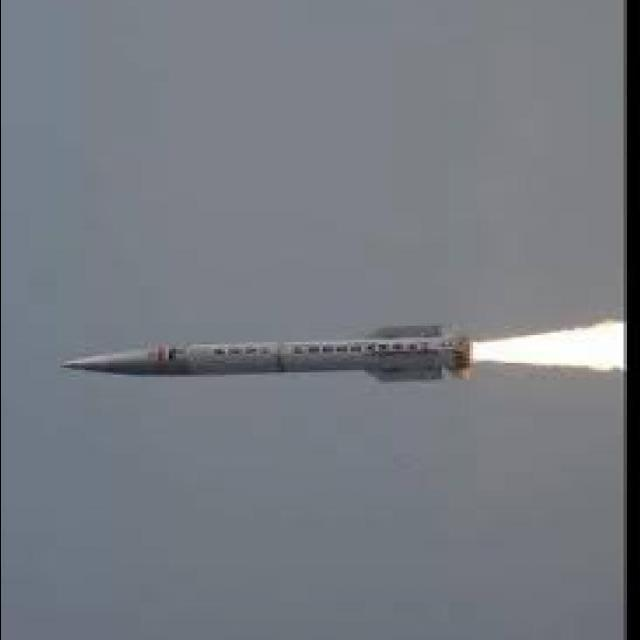missile: (56, 321, 487, 393)
